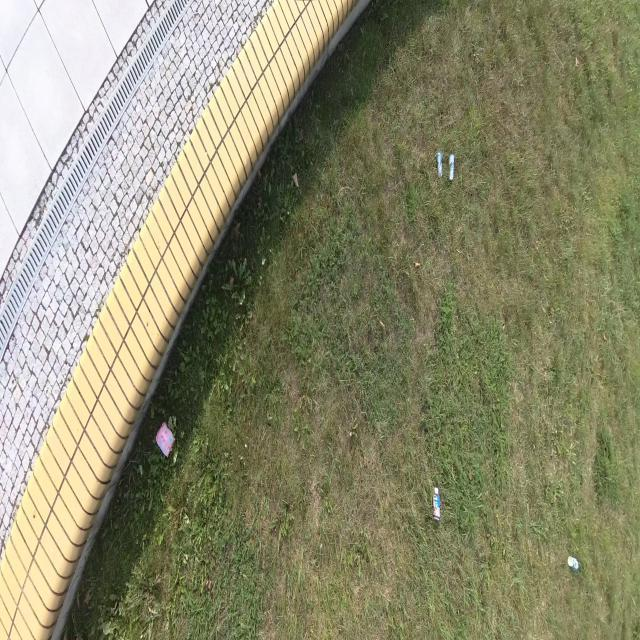rubbish: (153, 422, 175, 458), (432, 481, 442, 522), (567, 554, 579, 571), (435, 150, 442, 179), (449, 153, 453, 181)
